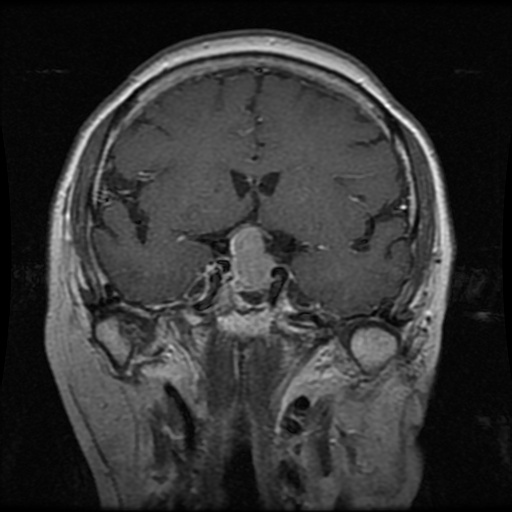pituitary: (228, 224, 272, 289)
